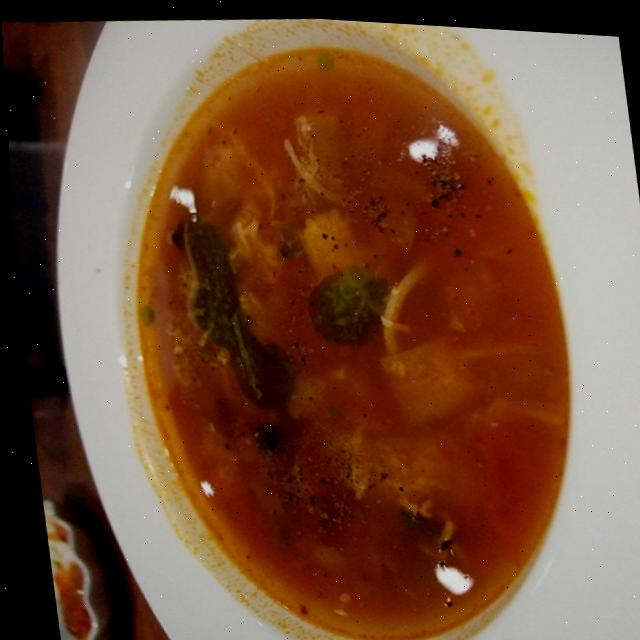汤锅炖物: (29, 1, 640, 640)
